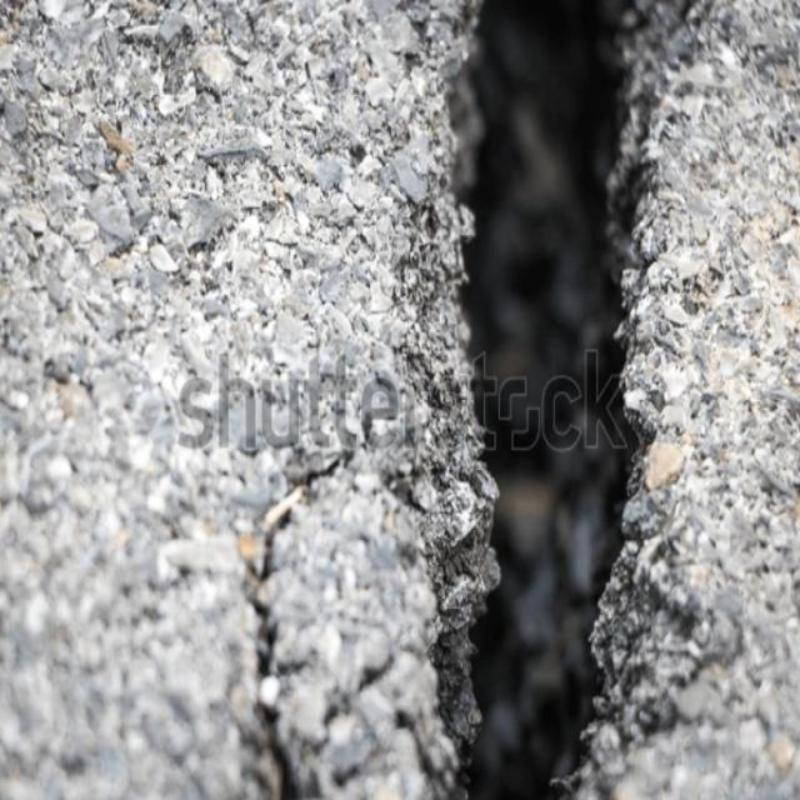crack: (449, 0, 625, 799)
